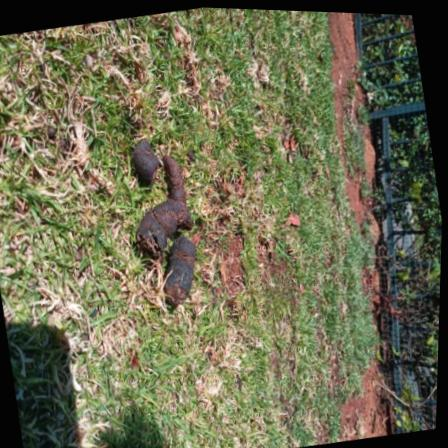dog-poop: (116, 125, 219, 315)
